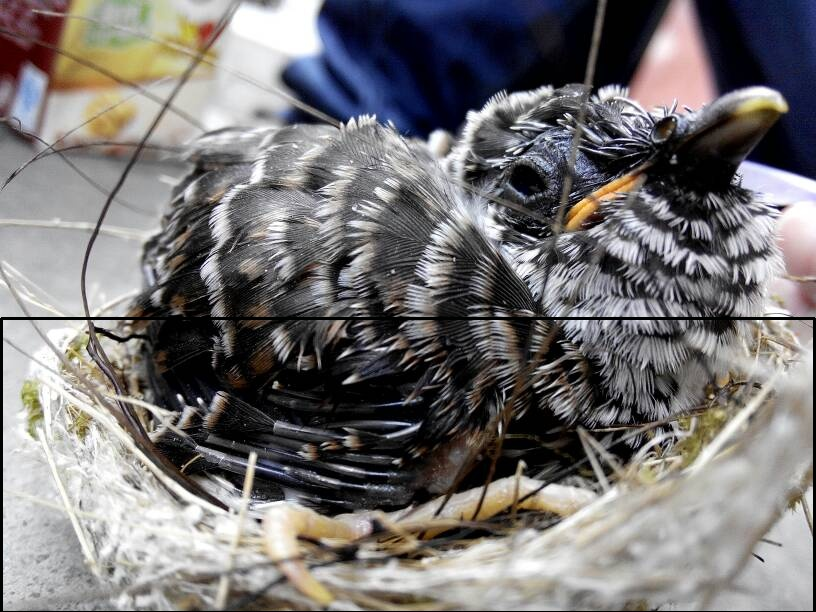bird-nest: (1, 318, 814, 612)
